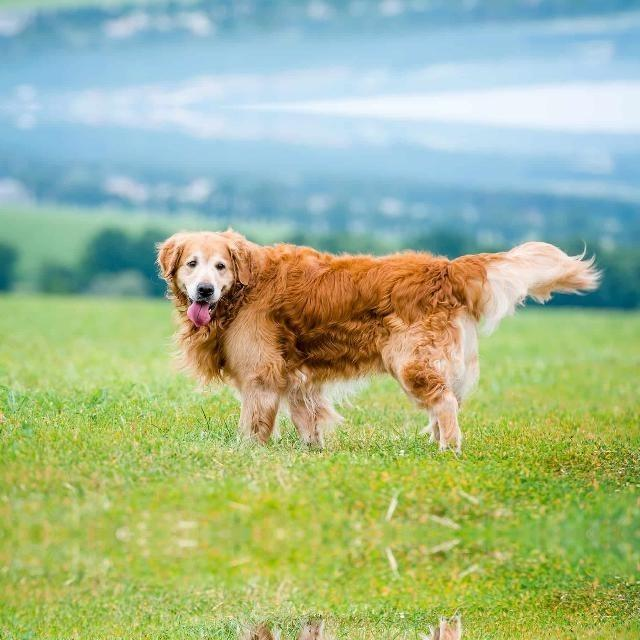dog: (119, 197, 551, 447), (119, 620, 551, 640), (119, 0, 551, 15)
